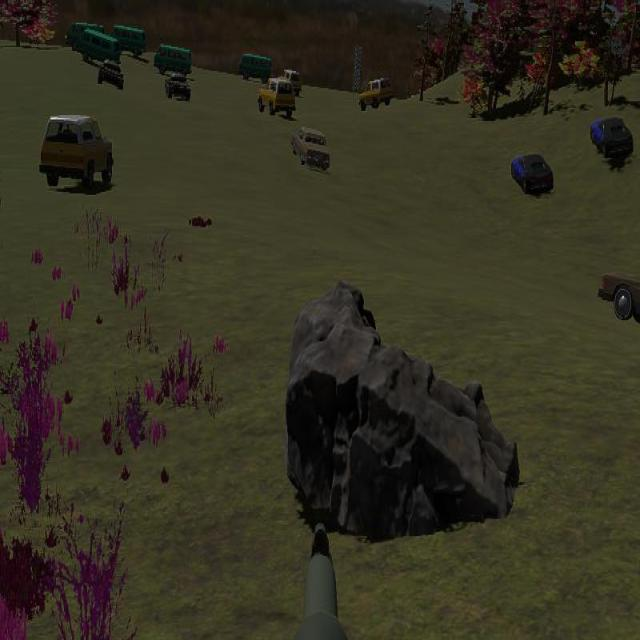car: (39, 112, 114, 192), (597, 249, 640, 337), (511, 150, 554, 196), (591, 115, 634, 160), (292, 126, 331, 172), (76, 28, 121, 67), (257, 77, 297, 119), (154, 43, 193, 77), (65, 20, 104, 51), (111, 23, 146, 57), (359, 77, 392, 112), (66, 21, 105, 50), (239, 51, 272, 83), (282, 64, 302, 99)
